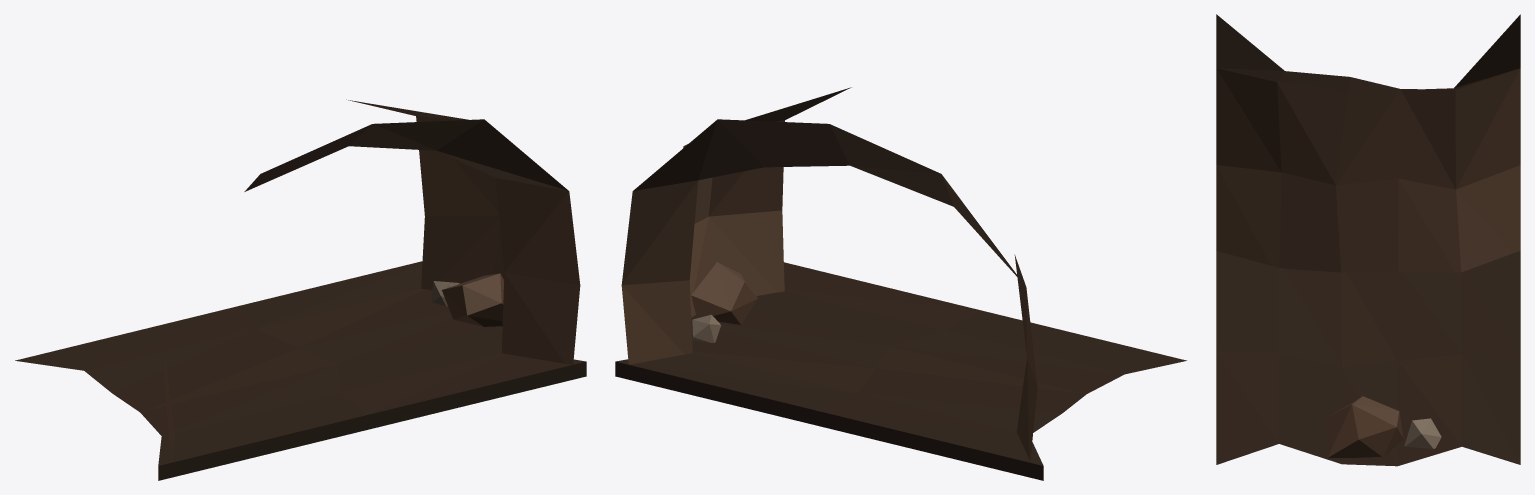
Rendered from tl_cave_tunnel_b_v01.glb.
The picture shows the model from 3 angles, left to right: view 1: azimuth 30°, elevation 25°; view 2: azimuth 150°, elevation 25°; view 3: azimuth 270°, elevation 25°; orthographic projection. The views are drawn at different scales.
Visible parts, largest first — view 1: tl_cave_tunnel_b_v01, tl_cave_tunnel_b_roof; view 2: tl_cave_tunnel_b_v01, tl_cave_tunnel_b_roof; view 3: tl_cave_tunnel_b_v01, tl_cave_tunnel_b_roof.
Boxes of the visible parts, <box> form: tl_cave_tunnel_b_v01: <box>15,116,586,480</box>; tl_cave_tunnel_b_roof: <box>244,99,568,191</box>; tl_cave_tunnel_b_v01: <box>615,120,1186,480</box>; tl_cave_tunnel_b_roof: <box>633,87,1025,286</box>; tl_cave_tunnel_b_v01: <box>1216,68,1520,466</box>; tl_cave_tunnel_b_roof: <box>1216,14,1520,91</box>.
Size of the model in its own units: 7.54 by 5.1 by 4.36.
